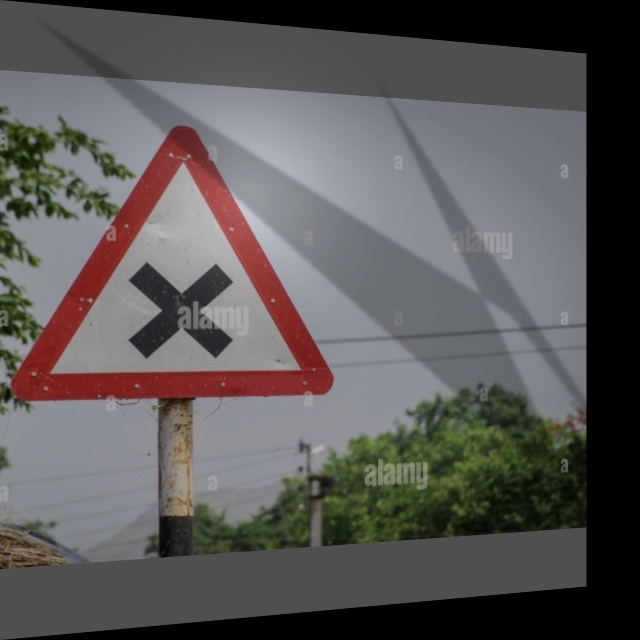Cross_Road: (33, 130, 332, 400)
